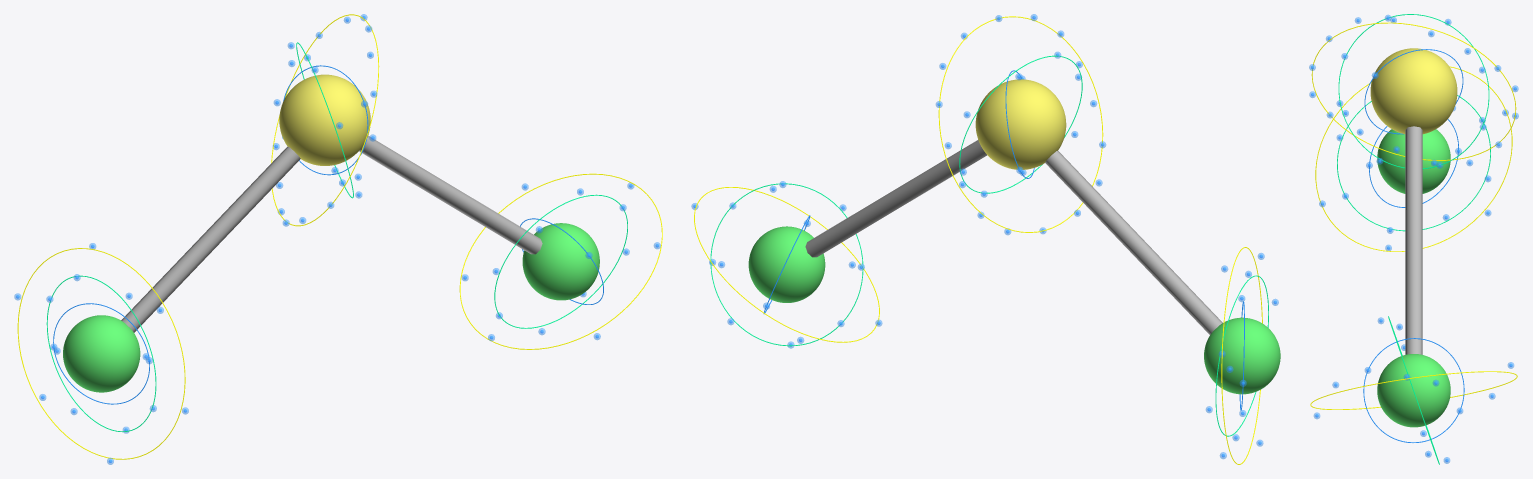
Rendered from FeS2.glb.
3 renders of one model, left to right at view 1: azimuth 30°, elevation 25°; view 2: azimuth 150°, elevation 25°; view 3: azimuth 270°, elevation 25°, orthographic. The views are drawn at different scales.
Visible parts, largest first — view 1: S (×2), Fe, object 129, object 130, object 80, object 116, object 24; view 2: S (×2), Fe, object 129, object 130, object 24, object 116, object 99, object 80; view 3: S (×2), Fe, object 130, object 24, object 80, object 7, object 116, object 63, object 94, object 2, object 58, object 99.
Part boxes in pixels (<box>): S (×2): <box>63,223,599,392</box>; Fe: <box>279,74,370,165</box>; object 129: <box>121,146,300,332</box>; object 130: <box>359,135,542,254</box>; object 80: <box>17,248,185,459</box>; object 116: <box>459,173,662,349</box>; object 24: <box>271,14,379,226</box>; S (×2): <box>748,226,1280,394</box>; Fe: <box>975,79,1066,169</box>; object 129: <box>1045,150,1222,334</box>; object 130: <box>805,140,986,257</box>; object 24: <box>938,16,1103,232</box>; object 116: <box>694,187,879,342</box>; object 99: <box>710,183,863,346</box>; object 80: <box>1221,247,1262,464</box>; S (×2): <box>1377,129,1450,427</box>; Fe: <box>1370,48,1457,134</box>; object 130: <box>1405,126,1422,354</box>; object 24: <box>1311,22,1516,160</box>; object 80: <box>1315,66,1512,251</box>; object 7: <box>1338,14,1489,169</box>; object 116: <box>1310,371,1517,409</box>; object 63: <box>1337,95,1490,231</box>; object 94: <box>1363,338,1464,442</box>; object 2: <box>1364,49,1463,134</box>; object 58: <box>1369,119,1458,207</box>; object 99: <box>1388,316,1439,464</box>.
Bounding box in the file's own units: 14.73 × 9.02 × 4.83.
